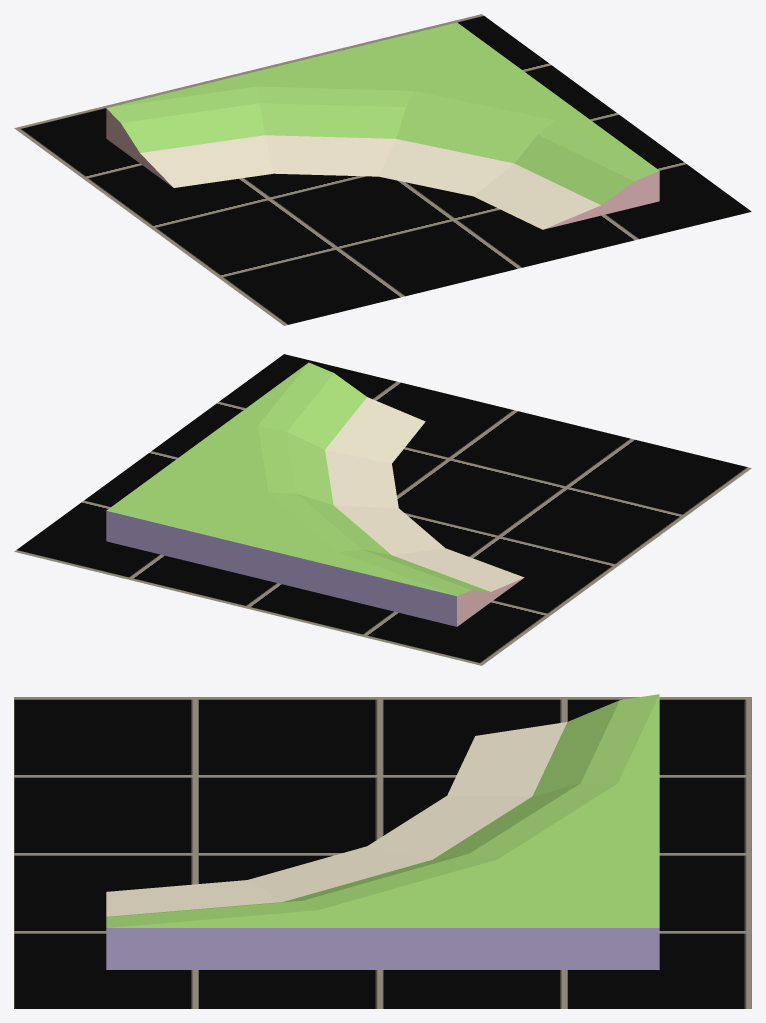
Rendered from Path_Terrain_Basic_Curve_Inner_3x3.glb.
The picture shows the model from 3 angles, top to bottom: view 1: azimuth 30°, elevation 25°; view 2: azimuth 150°, elevation 25°; view 3: azimuth 270°, elevation 25°; orthographic projection. The views are drawn at different scales.
Visible parts, largest first — view 1: Path_Terrain_Basic_Curve_Inner_3x3, Floor; view 2: Floor, Path_Terrain_Basic_Curve_Inner_3x3; view 3: Floor, Path_Terrain_Basic_Curve_Inner_3x3.
Part boxes in pixels (x1,y1,x2,y2): Path_Terrain_Basic_Curve_Inner_3x3: [106, 22, 659, 229]; Floor: [14, 14, 751, 325]; Floor: [14, 354, 751, 665]; Path_Terrain_Basic_Curve_Inner_3x3: [106, 362, 524, 626]; Floor: [14, 697, 751, 1008]; Path_Terrain_Basic_Curve_Inner_3x3: [106, 694, 659, 969].
Bounding box in the file's own units: 400 × 25 × 400.
6 materials, 1 textured.
